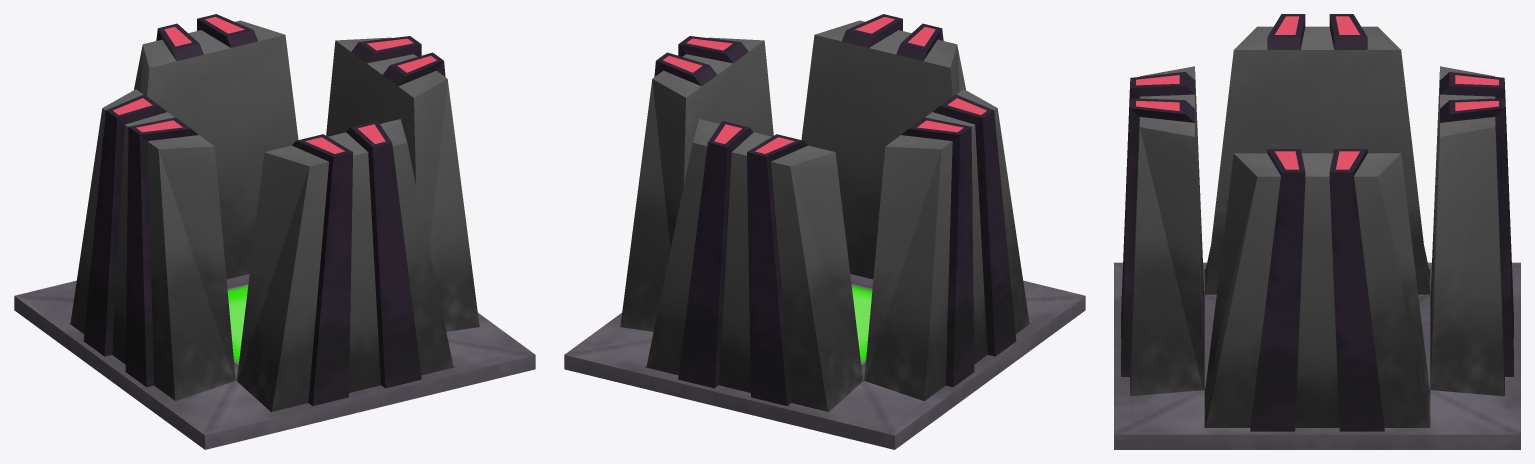
The model's file is GateObstacle.fbx.
The picture shows the model from 3 angles, left to right: view 1: azimuth 30°, elevation 25°; view 2: azimuth 150°, elevation 25°; view 3: azimuth 270°, elevation 25°; orthographic projection. The views are drawn at different scales.
Parts seen in each view (by area): view 1: blockadeGate, blockadeObstacle; view 2: blockadeGate, blockadeObstacle; view 3: blockadeGate, blockadeObstacle.
Boxes of the visible parts, bbox=[...] form: blockadeGate: bbox=[70, 14, 479, 411]; blockadeObstacle: bbox=[14, 274, 535, 449]; blockadeGate: bbox=[620, 14, 1029, 411]; blockadeObstacle: bbox=[564, 274, 1085, 449]; blockadeGate: bbox=[1121, 14, 1513, 431]; blockadeObstacle: bbox=[1114, 262, 1520, 449].
Size of the model in its own units: 147 by 108 by 147.
Materials: 2 (2 with a texture image).
